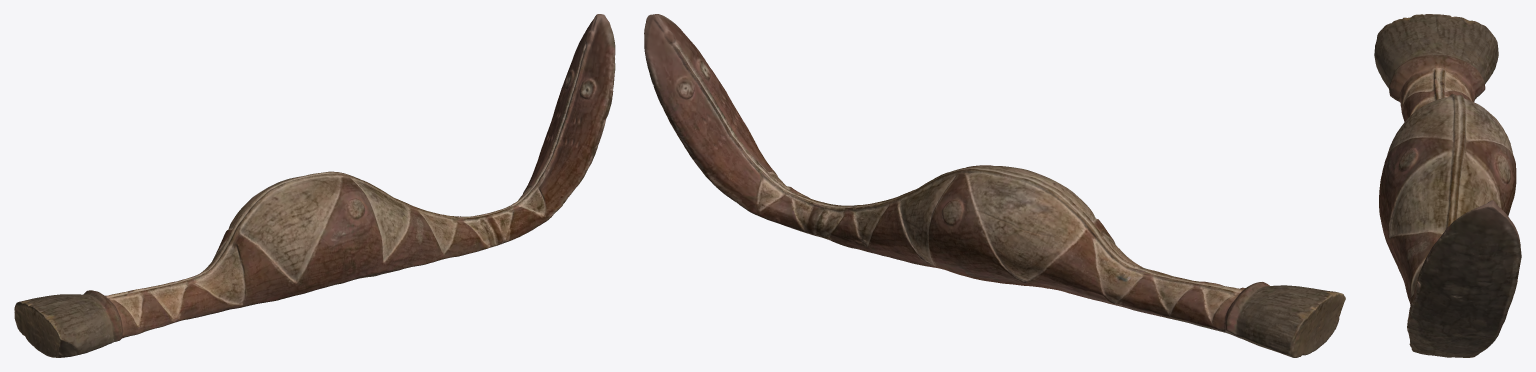
File: preview.glb
The picture shows the model from 3 angles, left to right: view 1: azimuth 30°, elevation 25°; view 2: azimuth 150°, elevation 25°; view 3: azimuth 270°, elevation 25°; orthographic projection. The views are drawn at different scales.
Parts seen in each view (by area): view 1: Object_2; view 2: Object_2; view 3: Object_2.
Boxes of the visible parts, box(x1,y1,x2,y2) form: Object_2: box(14, 14, 615, 357); Object_2: box(644, 14, 1345, 357); Object_2: box(1374, 14, 1521, 357).
Bounding box in the file's own units: 1.33 × 0.3958 × 0.2321.
1 material, 1 textured.
